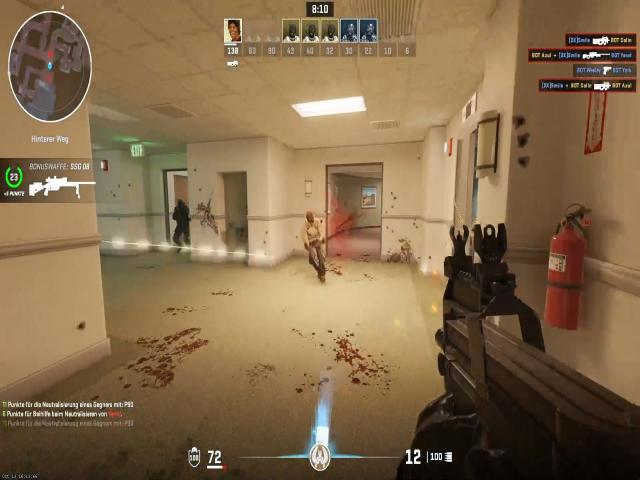CT: (170, 193, 191, 248)
CT-Head: (174, 195, 187, 212)
Dead: (298, 204, 331, 277)
